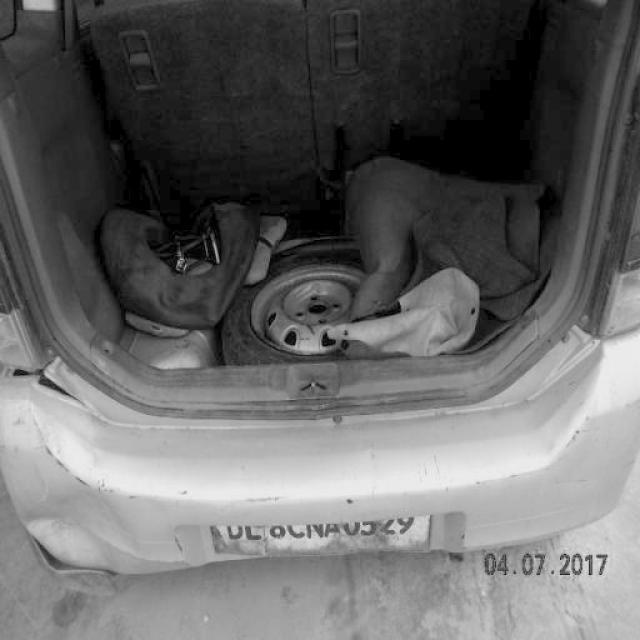car damage: (28, 448, 197, 579), (11, 368, 92, 407)
